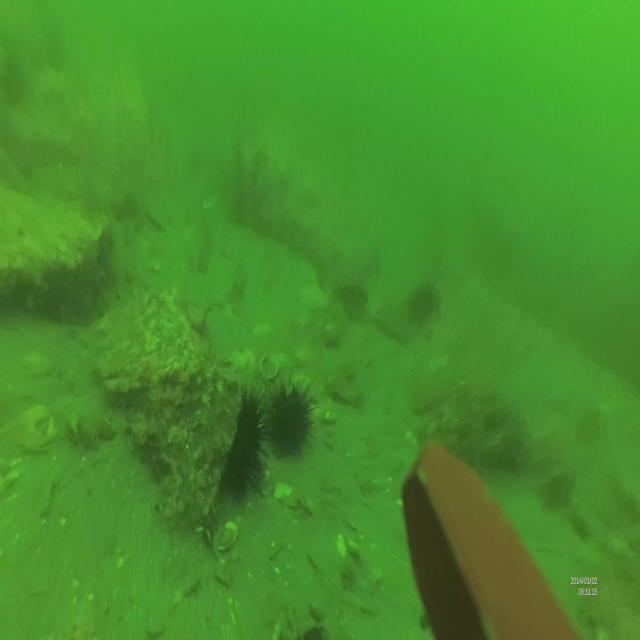echinus: (219, 387, 271, 502), (268, 379, 312, 457)
scallop: (274, 483, 295, 504)
